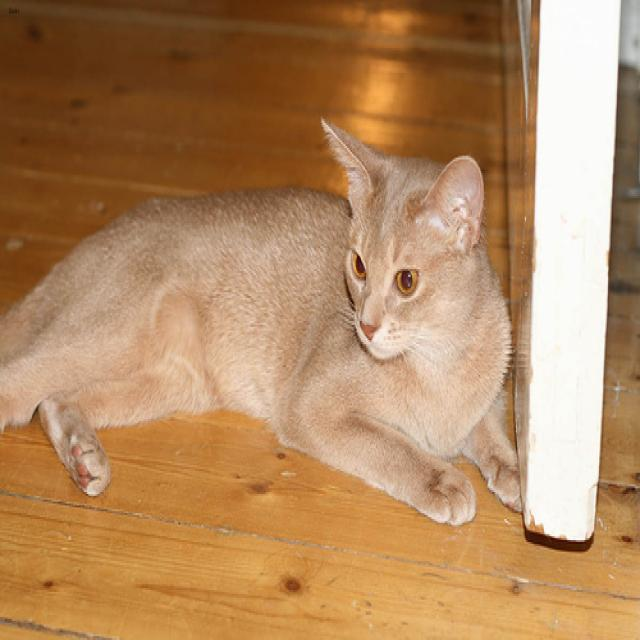Abyssinian: (319, 114, 483, 356)
